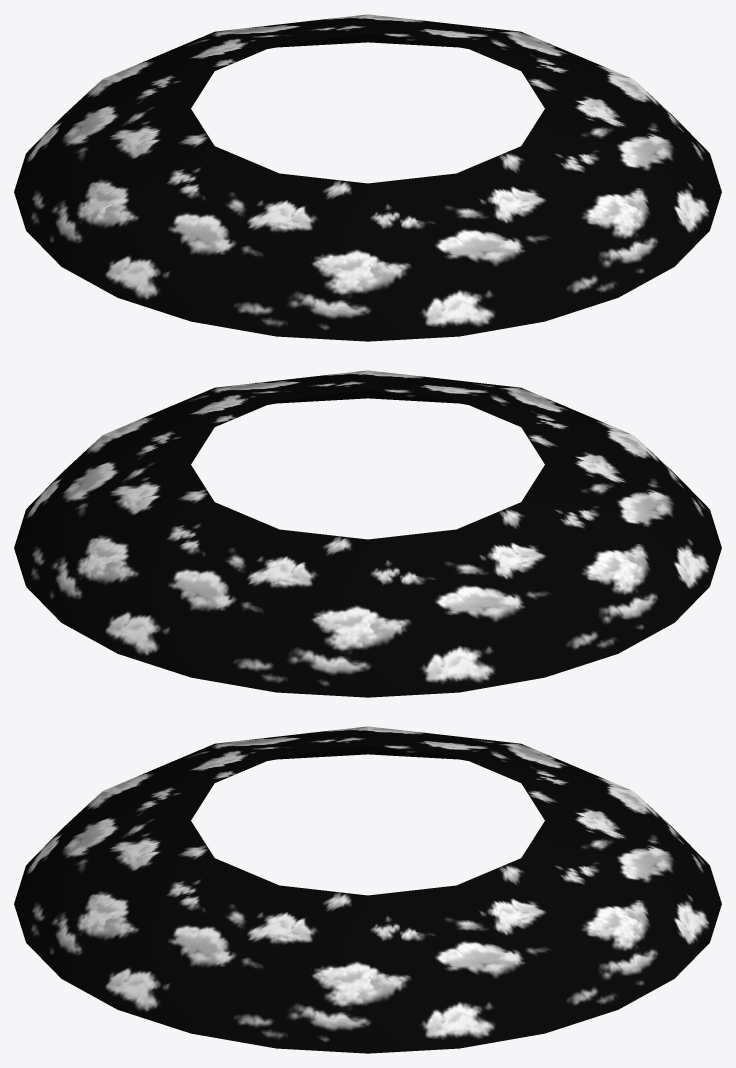
Rendered from FP_jog_island.md.040.obj.
3 views of the same model, one above another, from view 1: azimuth 30°, elevation 25°; view 2: azimuth 150°, elevation 25°; view 3: azimuth 270°, elevation 25° (orthographic).
Visible parts, largest first — view 1: FP_jog_island.mo.040; view 2: FP_jog_island.mo.040; view 3: FP_jog_island.mo.040.
Boxes of the visible parts, x1,y1,x2,y2 form: FP_jog_island.mo.040: [14, 14, 721, 341]; FP_jog_island.mo.040: [14, 370, 721, 697]; FP_jog_island.mo.040: [14, 726, 721, 1053].
Size of the model in its own units: 1400 by 182 by 1400.
1 material, 1 textured.
